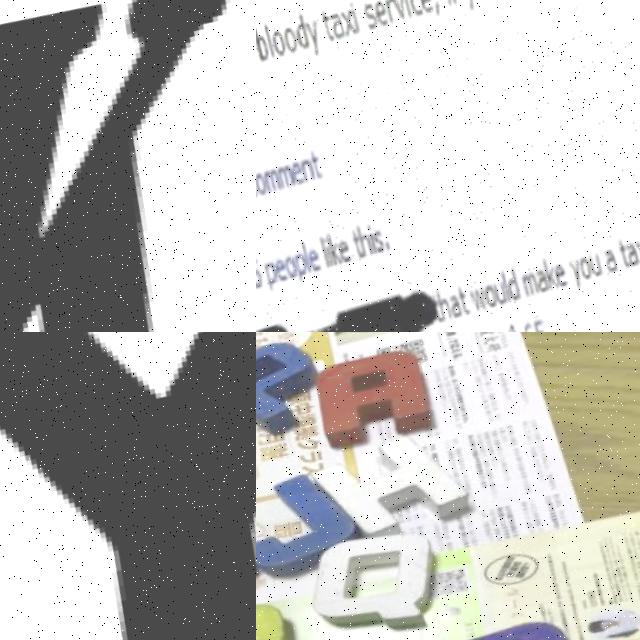5: (256, 250, 277, 287), (540, 309, 563, 332)
6: (528, 311, 551, 332)
A: (299, 336, 447, 446)
B: (431, 593, 621, 640)
H: (312, 414, 488, 545)
J: (256, 455, 371, 580)
K: (0, 0, 256, 332)
P: (256, 332, 330, 442)
Q: (293, 512, 457, 640)
Y: (0, 332, 256, 640)
